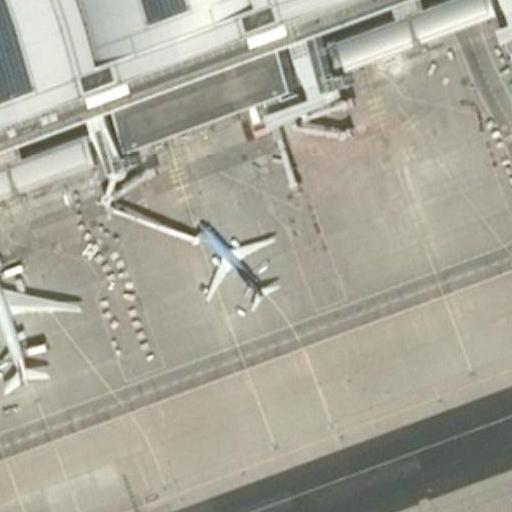Aircraft: (0, 241, 76, 393), (198, 218, 281, 312)
